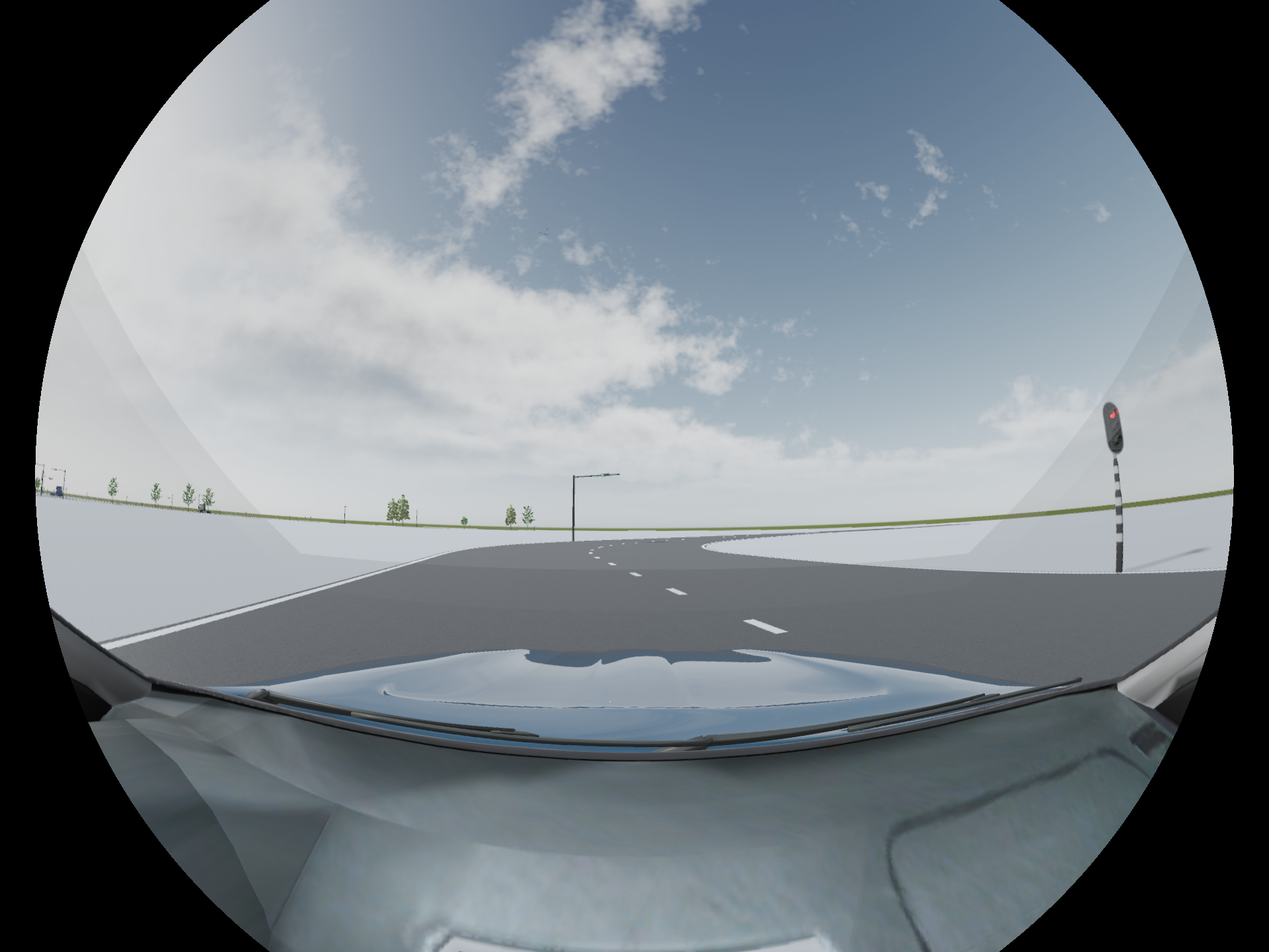Red Light: (1104, 403, 1126, 454)
